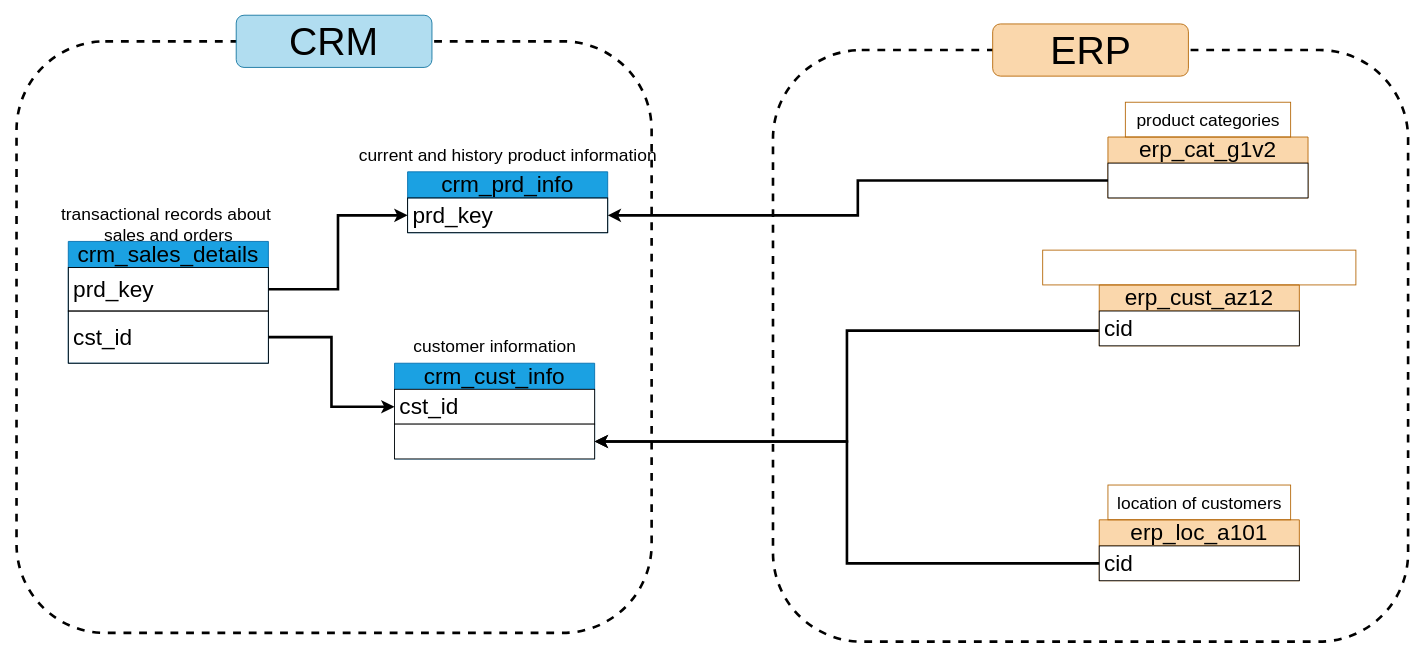
Some shapes in this 1424 by 658 pixel diagram are drawn without their labels. Each missing label, with the centre of its shape:
"cst_key" goes at point 494,441.
"extra customer information (birthdate)" goes at point 1199,267.
"id" goes at point 1207,180.
